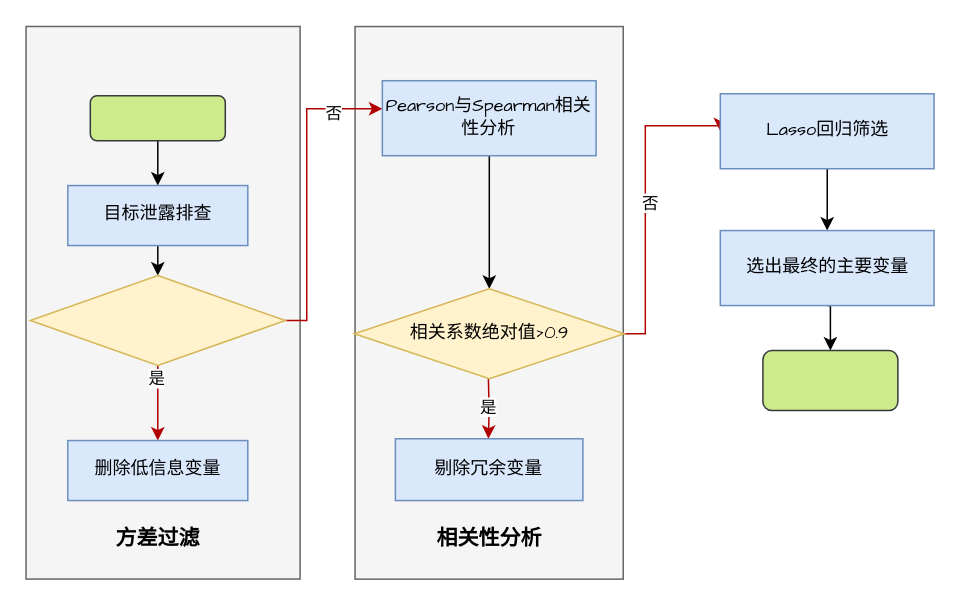
The diagram is 962 pixels wide and 606 high, and some of its shapes have lost their labels. The shapes that lost their labels are listed below. From the top down, each one's box as (x1, y1, x2, y2) in pixels, then its label:
(89, 94, 225, 141): 开始
(29, 274, 285, 366): 是否为近零方差变量？
(761, 349, 898, 411): 结束
